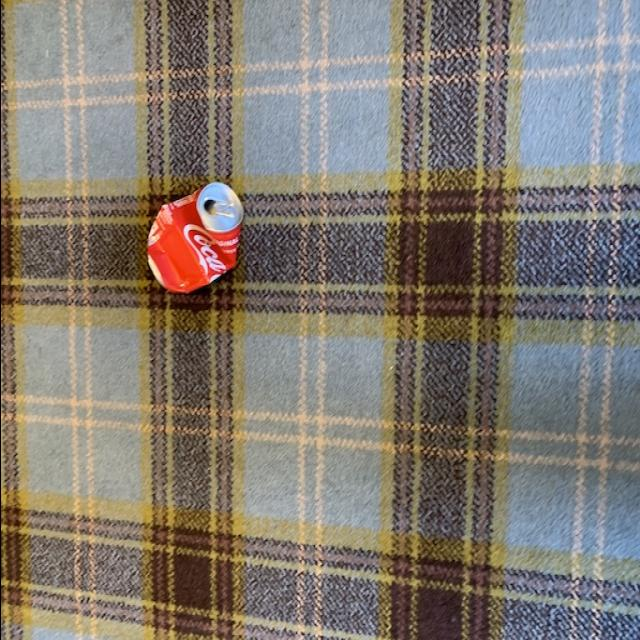litter: (142, 178, 246, 294)
